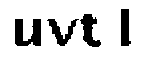l: (111, 7, 135, 50)
t: (80, 9, 106, 50)
u: (8, 15, 43, 49)
v: (45, 15, 78, 50)
